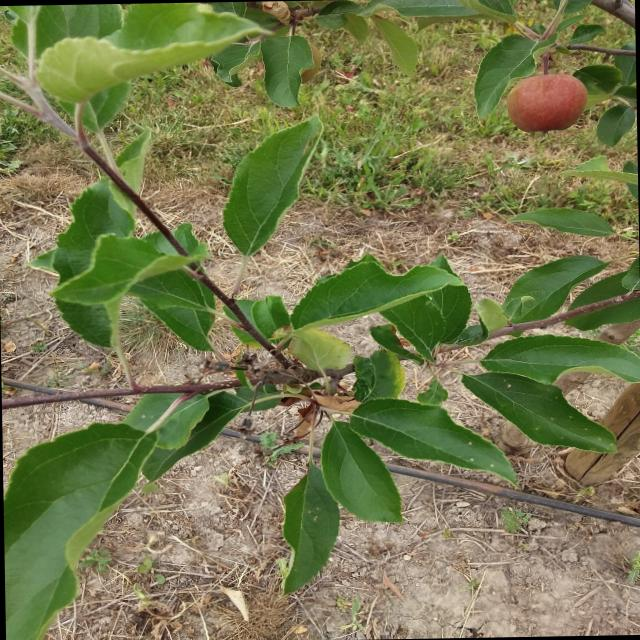-FireBlight-: (282, 372, 359, 434)
